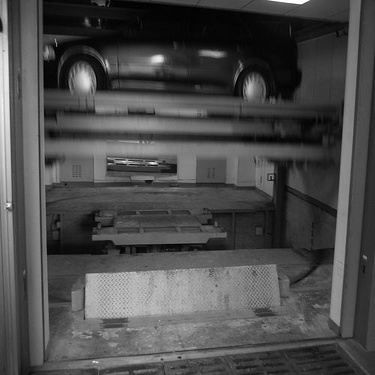car: (22, 2, 305, 113)
